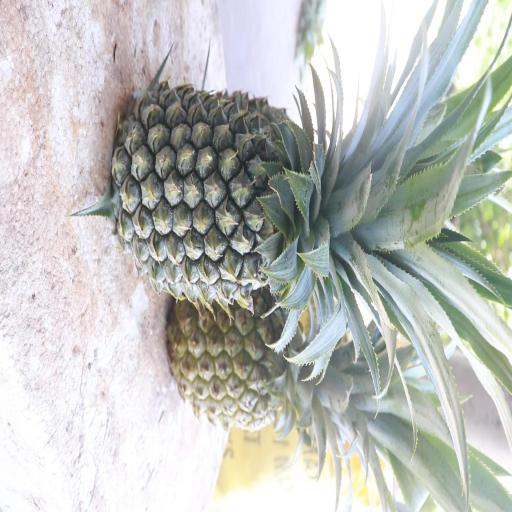------------------------------: (162, 258, 393, 437)
